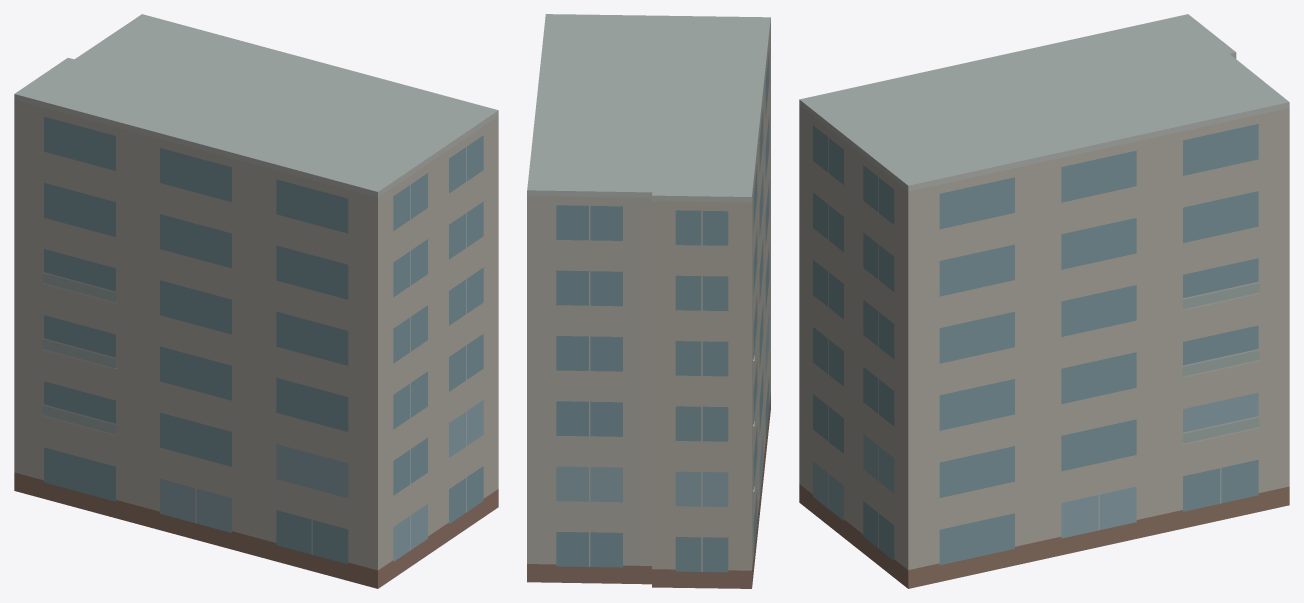
Rendered from survey-upis-32976626.glb.
3 renders of one model, left to right at view 1: azimuth 30°, elevation 25°; view 2: azimuth 150°, elevation 25°; view 3: azimuth 270°, elevation 25°, orthographic. The views are drawn at different scales.
Parts seen in each view (by area): view 1: survey-upis-32976626.tmp; view 2: survey-upis-32976626.tmp; view 3: survey-upis-32976626.tmp.
Part boxes in pixels (x1,y1,x2,y2): survey-upis-32976626.tmp: [14, 14, 498, 588]; survey-upis-32976626.tmp: [527, 14, 770, 588]; survey-upis-32976626.tmp: [799, 14, 1289, 588].
Bounding box in the file's own units: 15.68 × 17.15 × 18.91.
